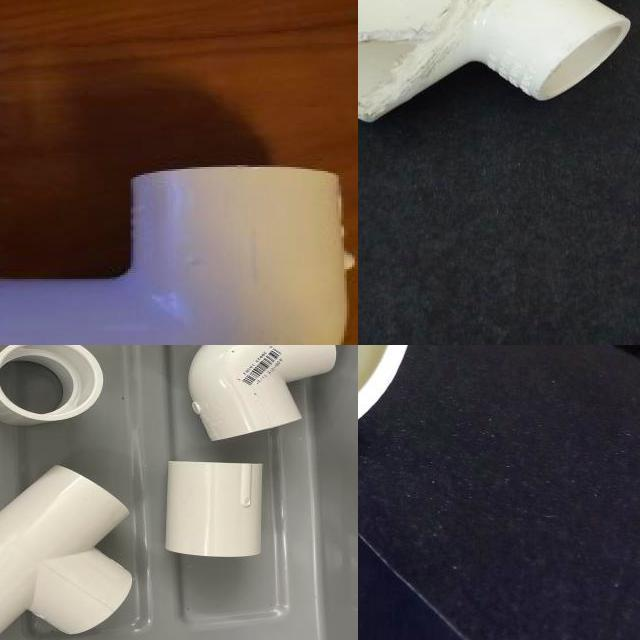Defective: (358, 34, 419, 87), (435, 0, 500, 43), (361, 95, 406, 122)
L Joint: (188, 345, 343, 441)
T Joint: (358, 0, 631, 125), (0, 465, 135, 640)
